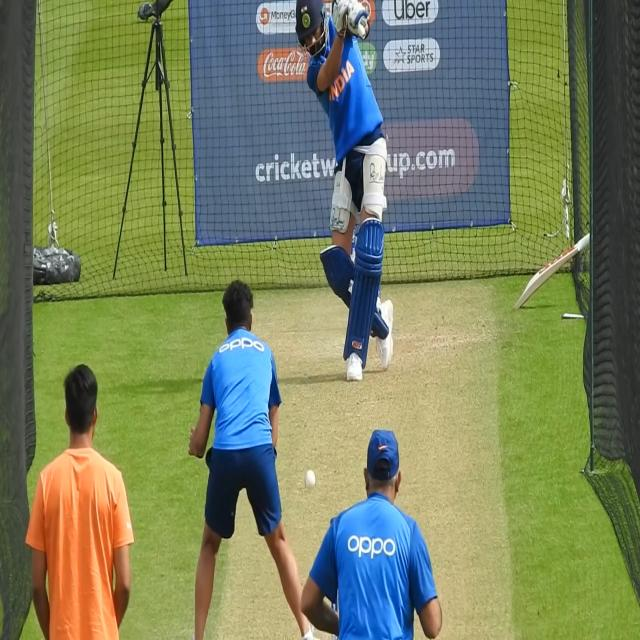Cricket ball: (304, 464, 318, 494)
